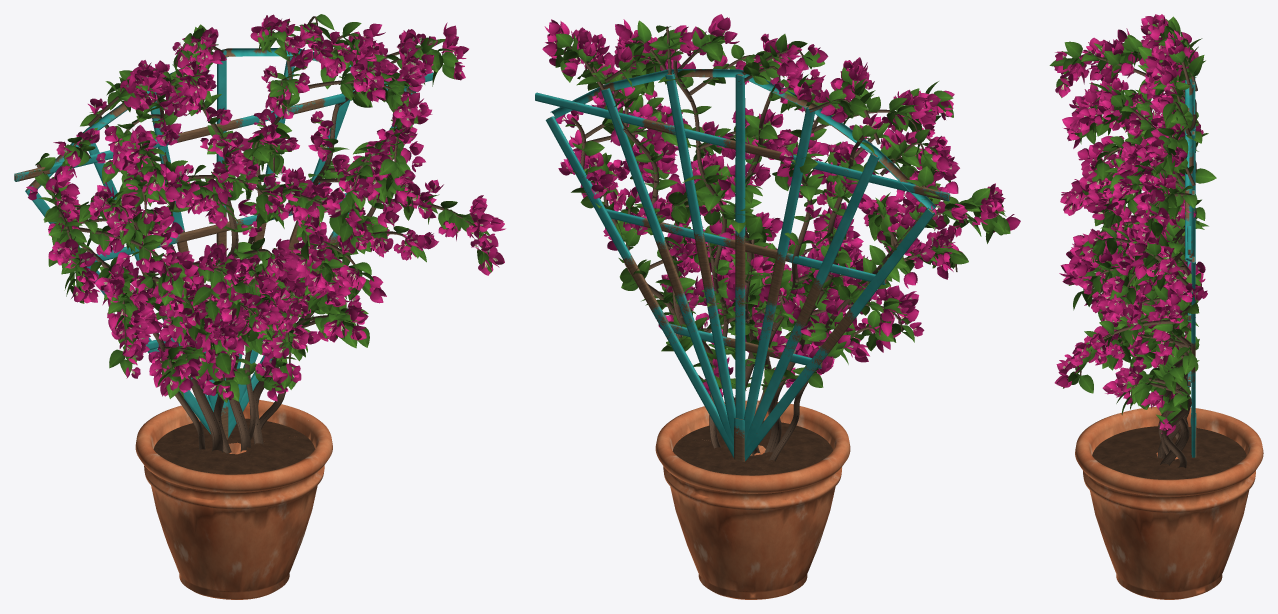
File: w3_flora_bougainvillea_pot.glb
3 renders of one model, left to right at view 1: azimuth 30°, elevation 25°; view 2: azimuth 150°, elevation 25°; view 3: azimuth 270°, elevation 25°, orthographic. The views are drawn at different scales.
Parts seen in each view (by area): view 1: w3_flora_bougainvillea_pot; view 2: w3_flora_bougainvillea_pot; view 3: w3_flora_bougainvillea_pot.
Boxes of the visible parts, x1,y1,x2,y2 form: w3_flora_bougainvillea_pot: (14, 14, 505, 599); w3_flora_bougainvillea_pot: (535, 14, 1020, 599); w3_flora_bougainvillea_pot: (1049, 14, 1263, 599).
Bounding box in the file's own units: 1.6 × 1.95 × 0.708.
6 materials, 6 textured.
